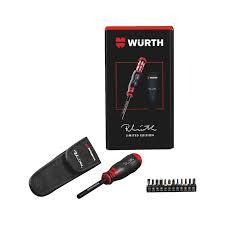screwdriver: (75, 152, 141, 198)
